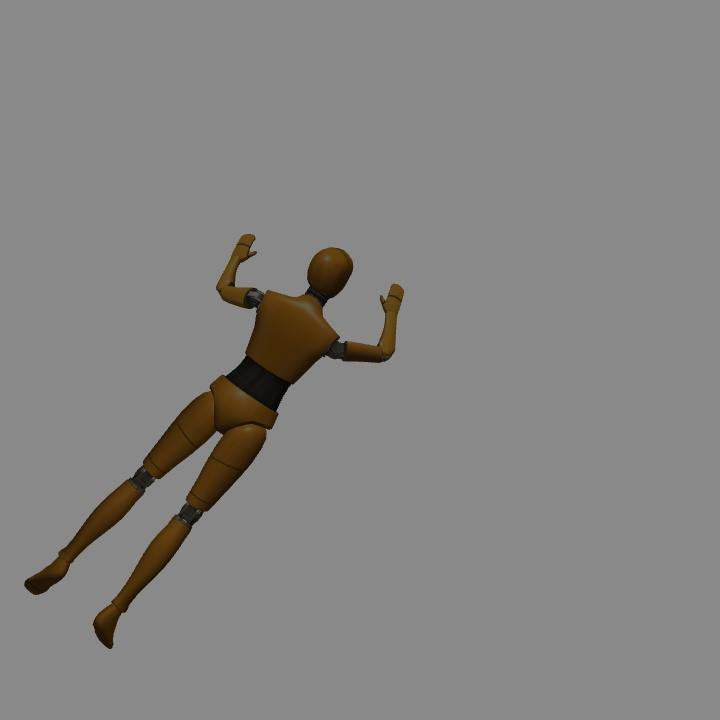victim: (27, 245, 405, 647)
